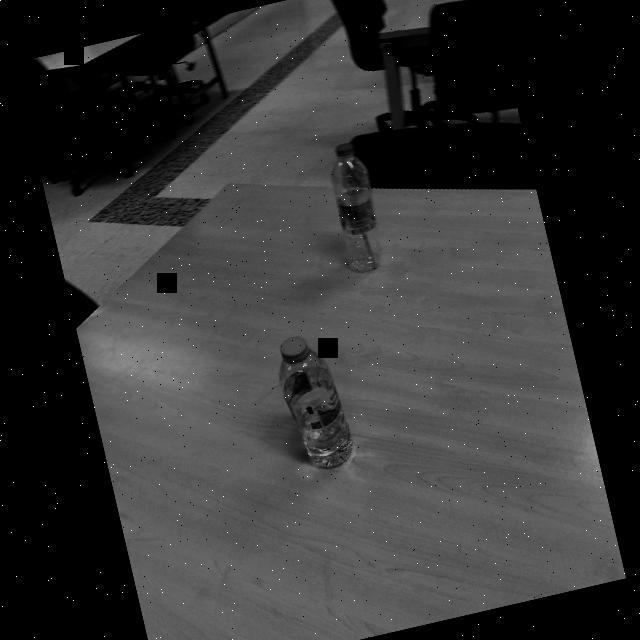plastic_bottle: (268, 324, 358, 478), (312, 132, 397, 281)
plastic_bottle_cap: (277, 334, 311, 366), (334, 140, 356, 158)
straw: (338, 156, 378, 270)
